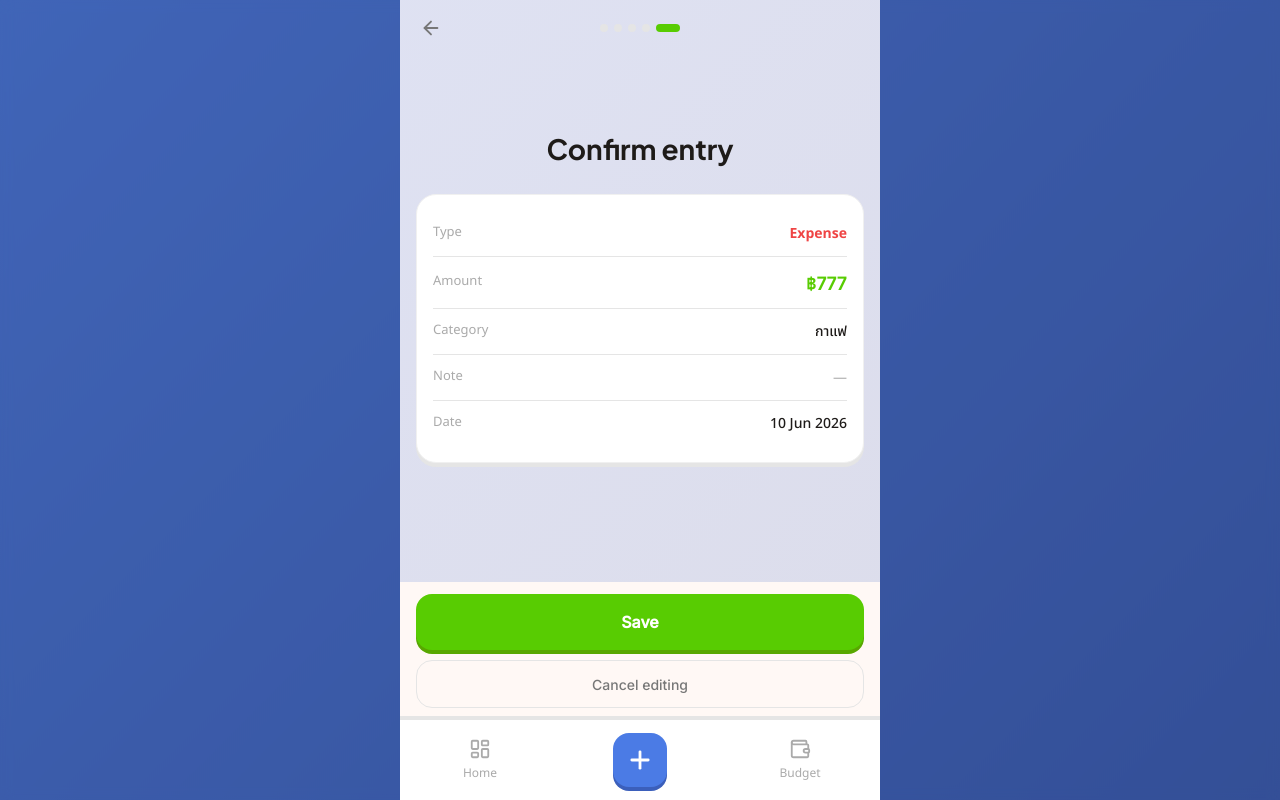
Test: quick-add template chips › shows no chips in edit mode
Expected: the heading "Confirm entry" is shown, [546,130,734,166]
Step 1. Click the button with class "lucide-arrow-left" → (431, 28), box [416,13,446,43]
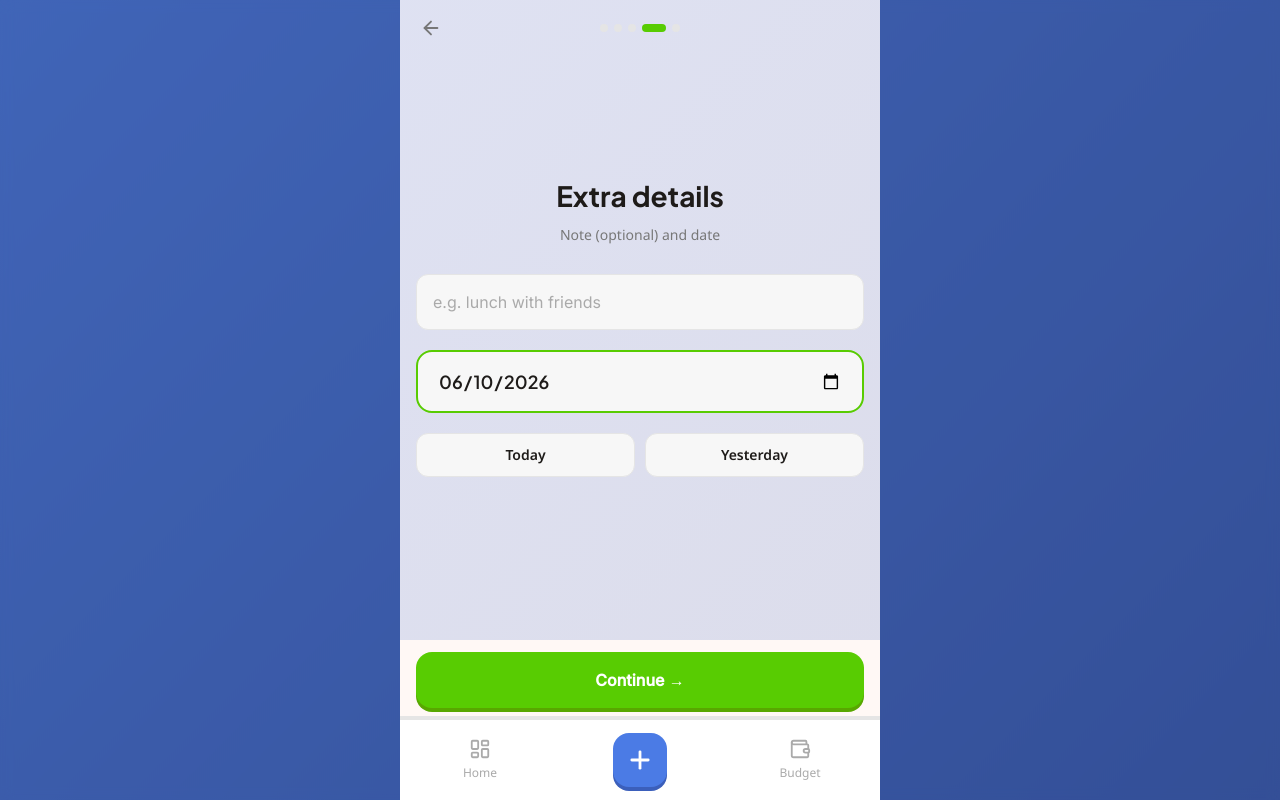
Expected: the heading "Extra details" is shown, [556,178,724,213]
Step 2. Click the button with class "lucide-arrow-left" → (431, 28), box [416,13,446,43]
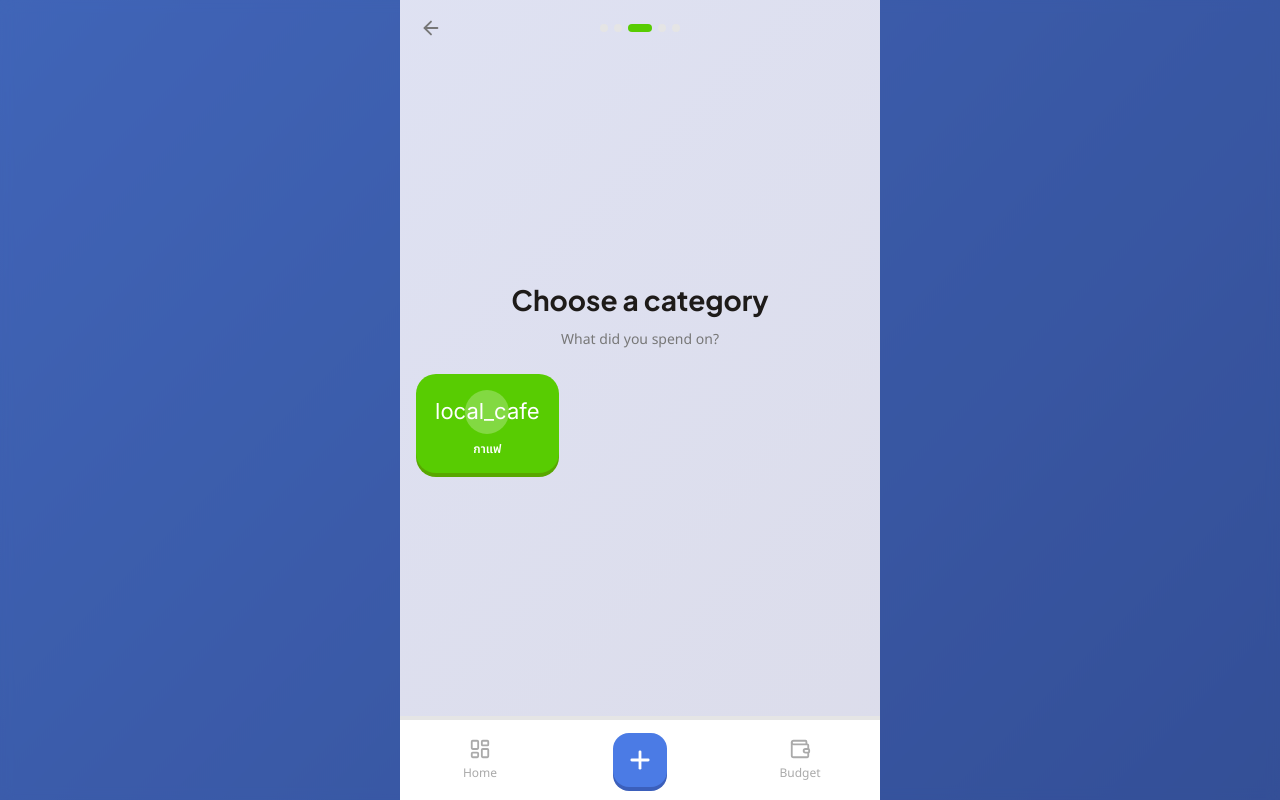
Expected: the heading "Choose a category" is shown, [511,282,769,317]
Step 3. Click the button with class "lucide-arrow-left" → (431, 28), box [416,13,446,43]
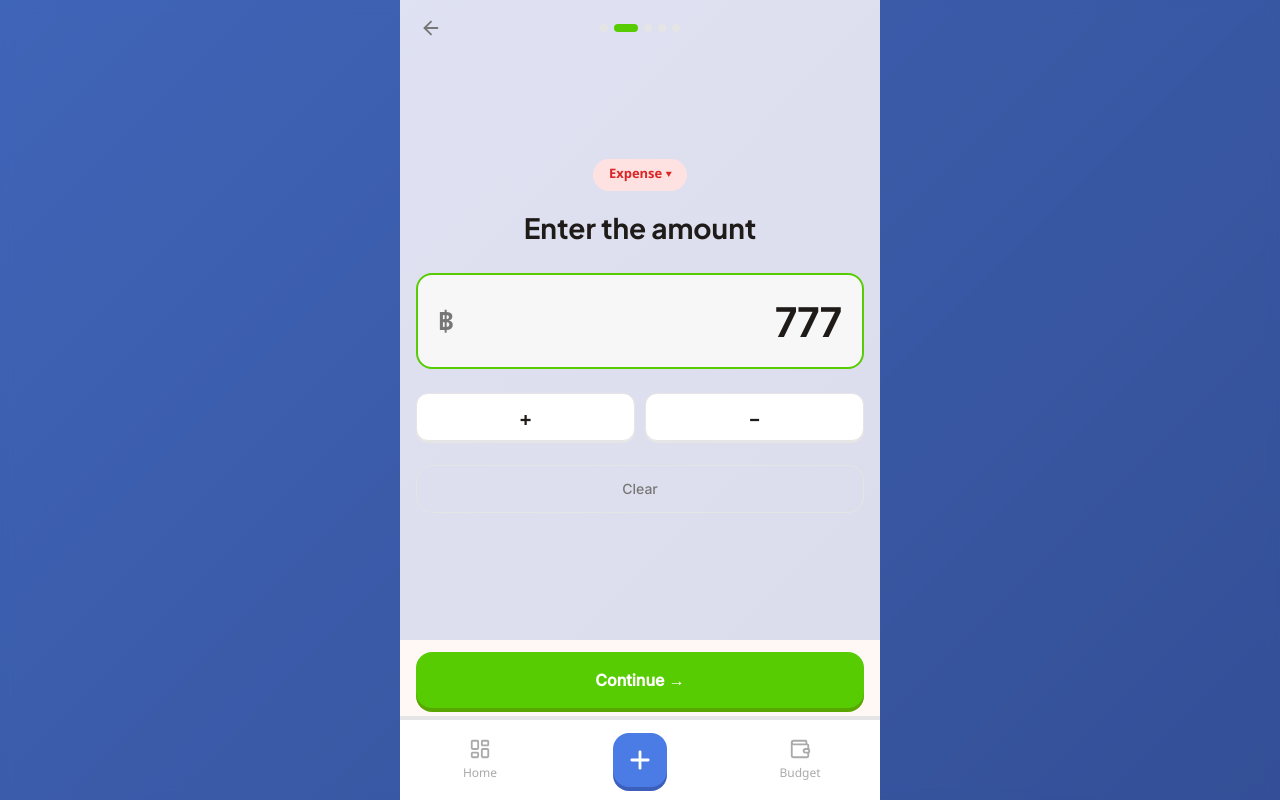
Expected: the heading "Enter the amount" is shown, [524,210,756,245]
